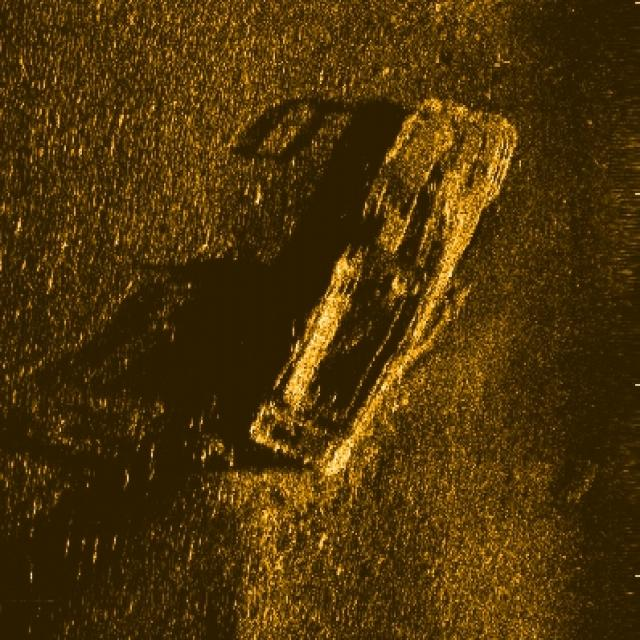ship: (246, 90, 521, 474)
